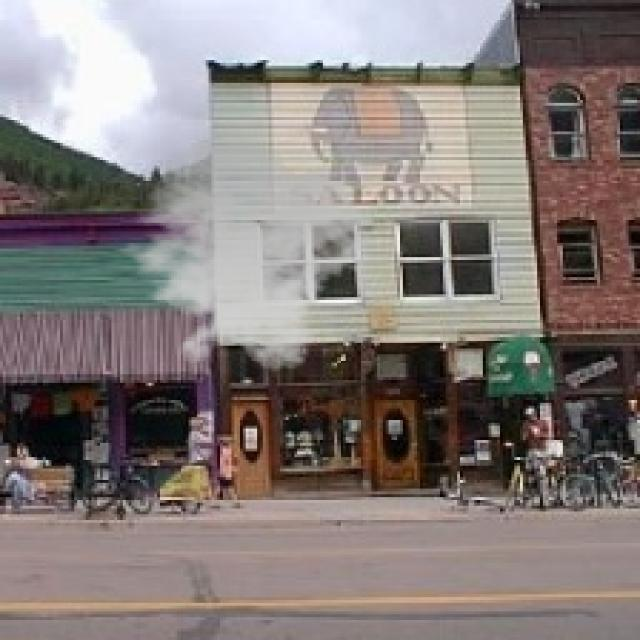smoke: (103, 134, 377, 372)
